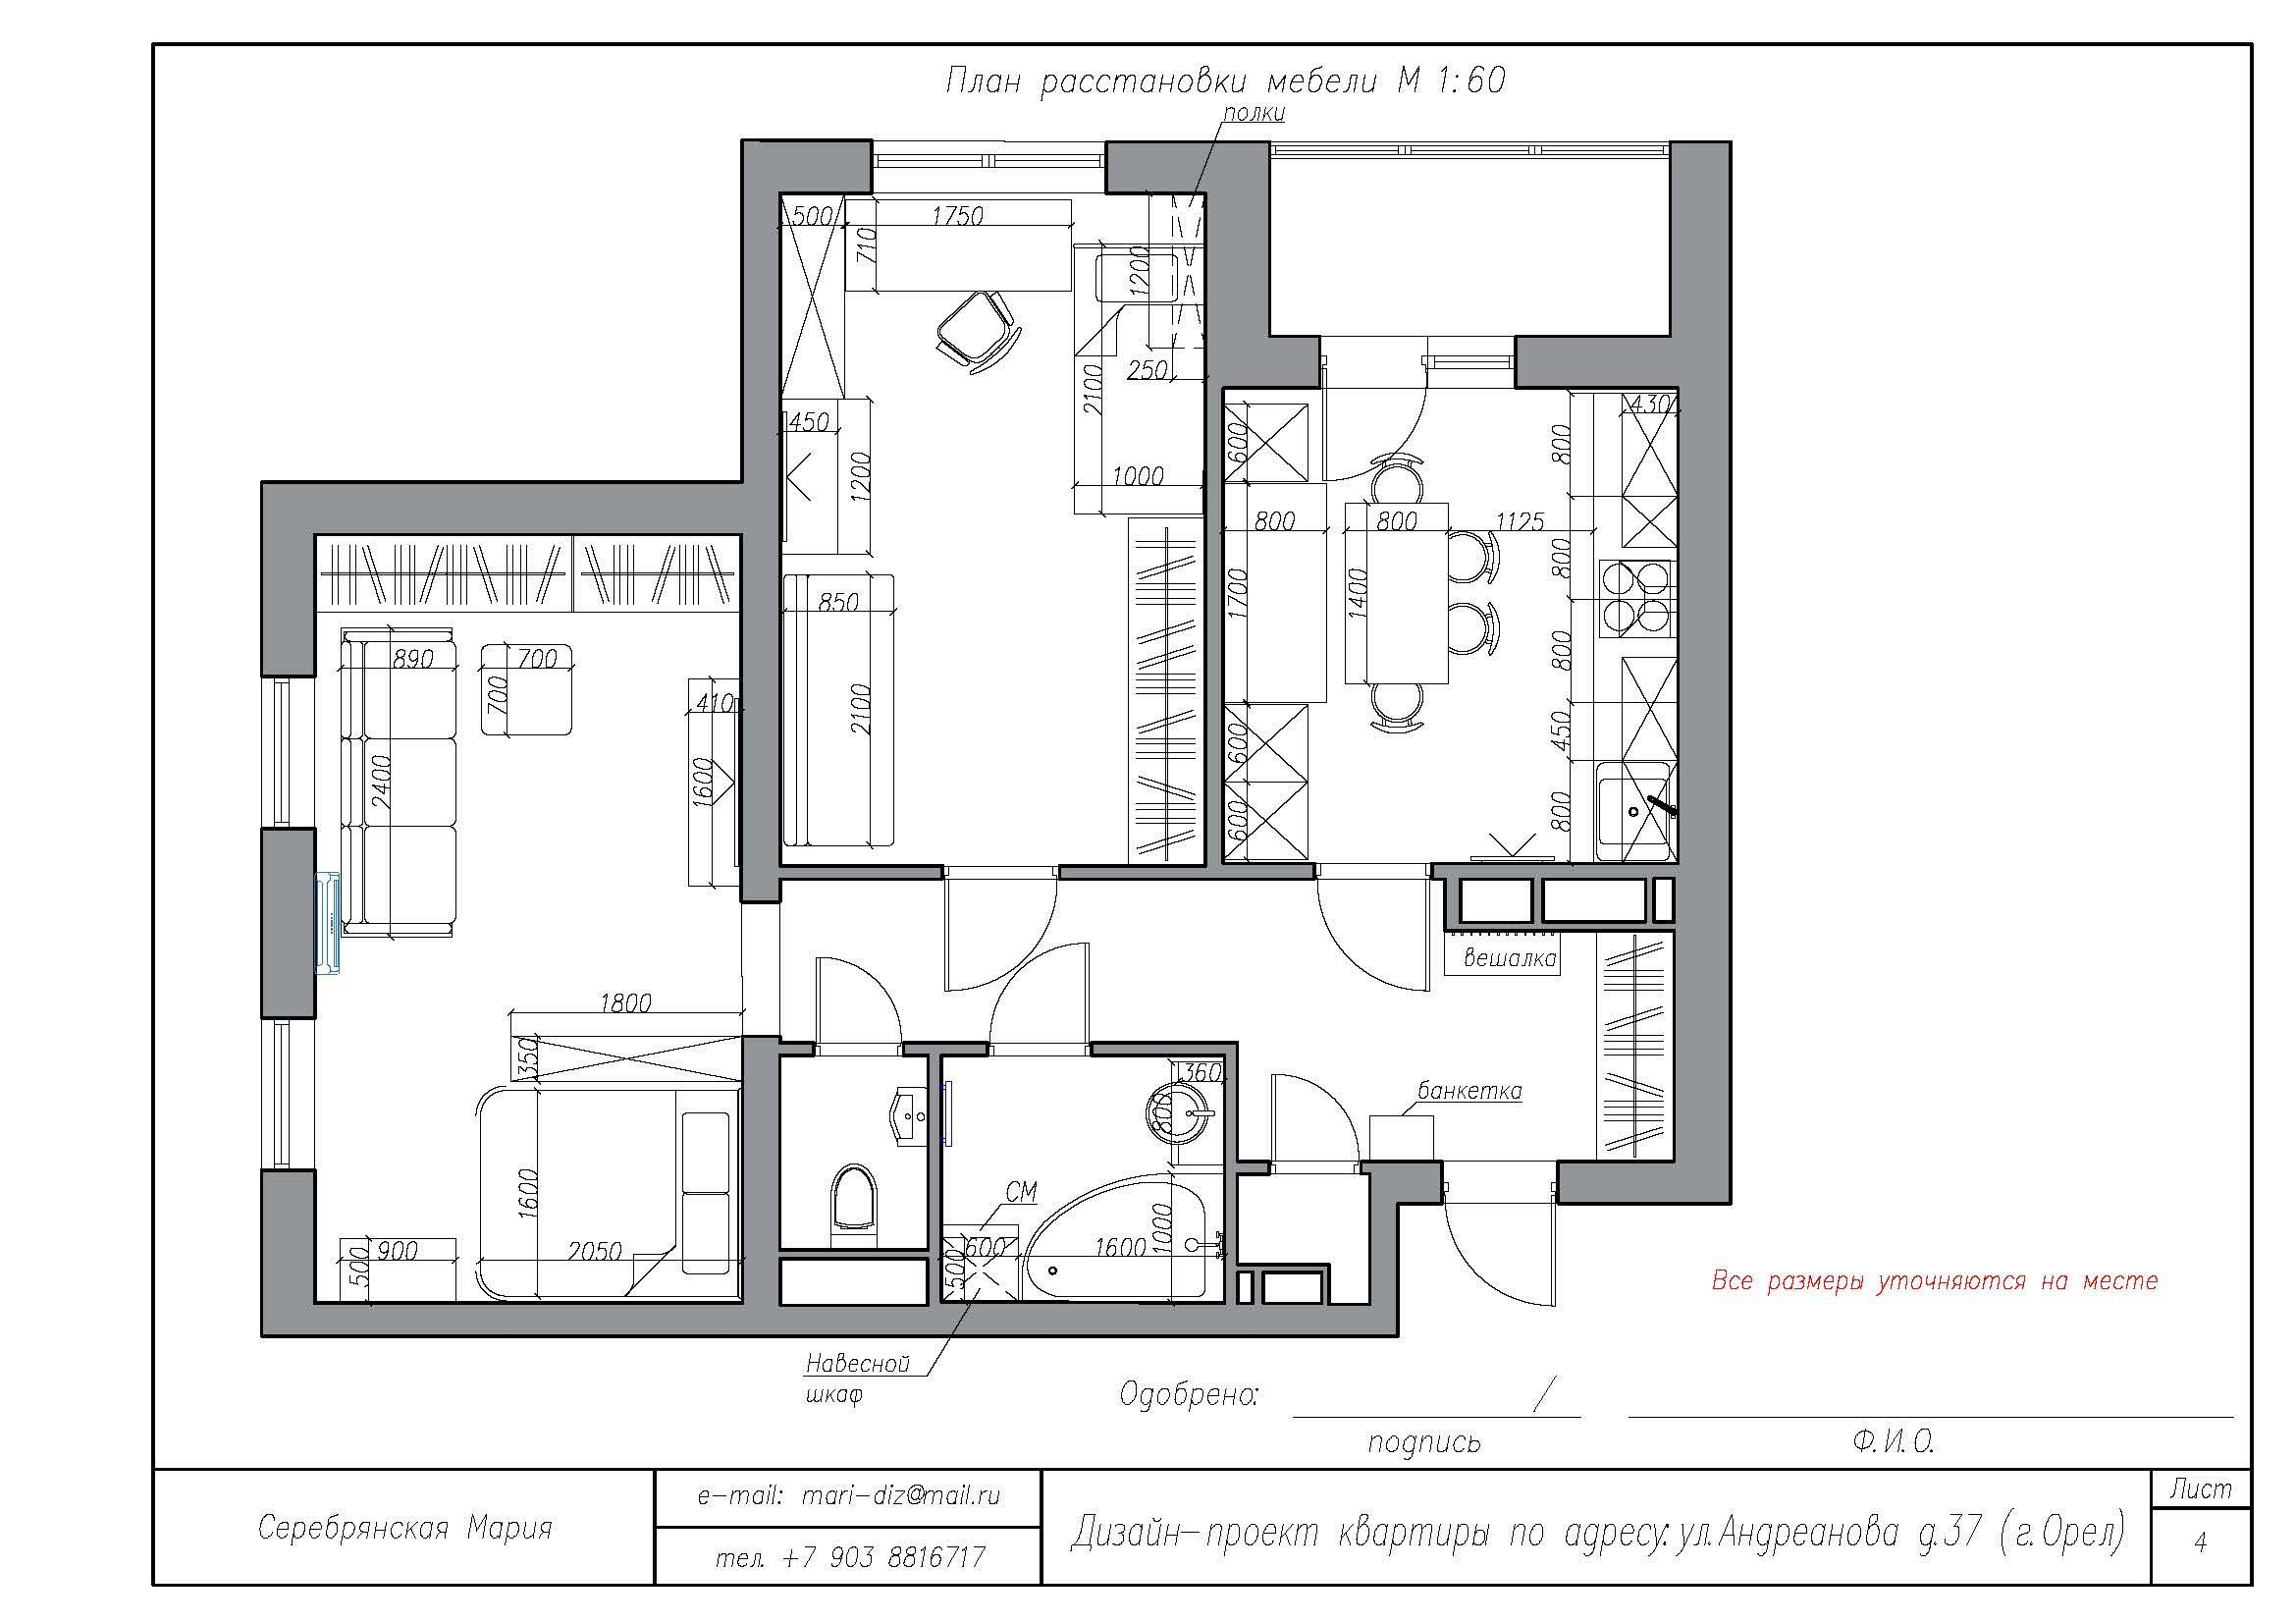balcony: (1274, 155, 1677, 329)
bathroom: (937, 1058, 1229, 1306)
bedroom: (314, 538, 746, 1304)
hallway: (783, 879, 1450, 1161)
home_office: (780, 194, 1207, 866)
kitchen: (1219, 383, 1677, 862)
toilet: (780, 1051, 928, 1252)
utility_room: (1242, 1176, 1374, 1306)
walk_in_closet: (1448, 928, 1671, 1163)
